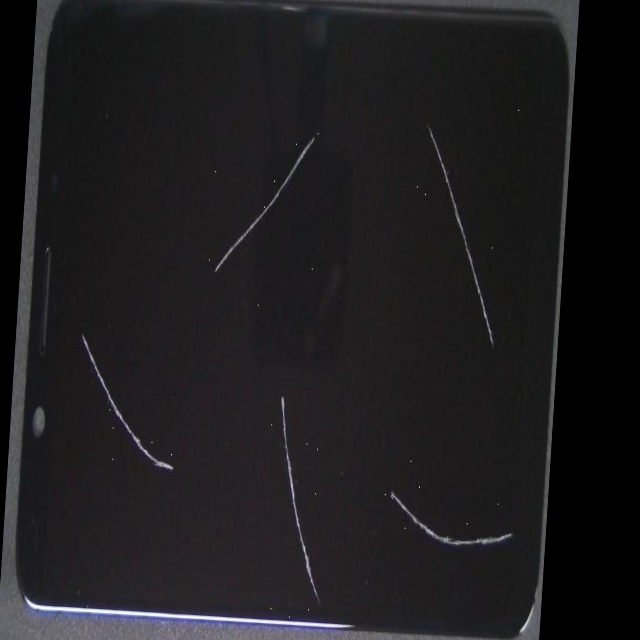scratch: (193, 147, 569, 640), (138, 78, 429, 636), (169, 0, 584, 346), (99, 99, 313, 514), (90, 213, 181, 619)
